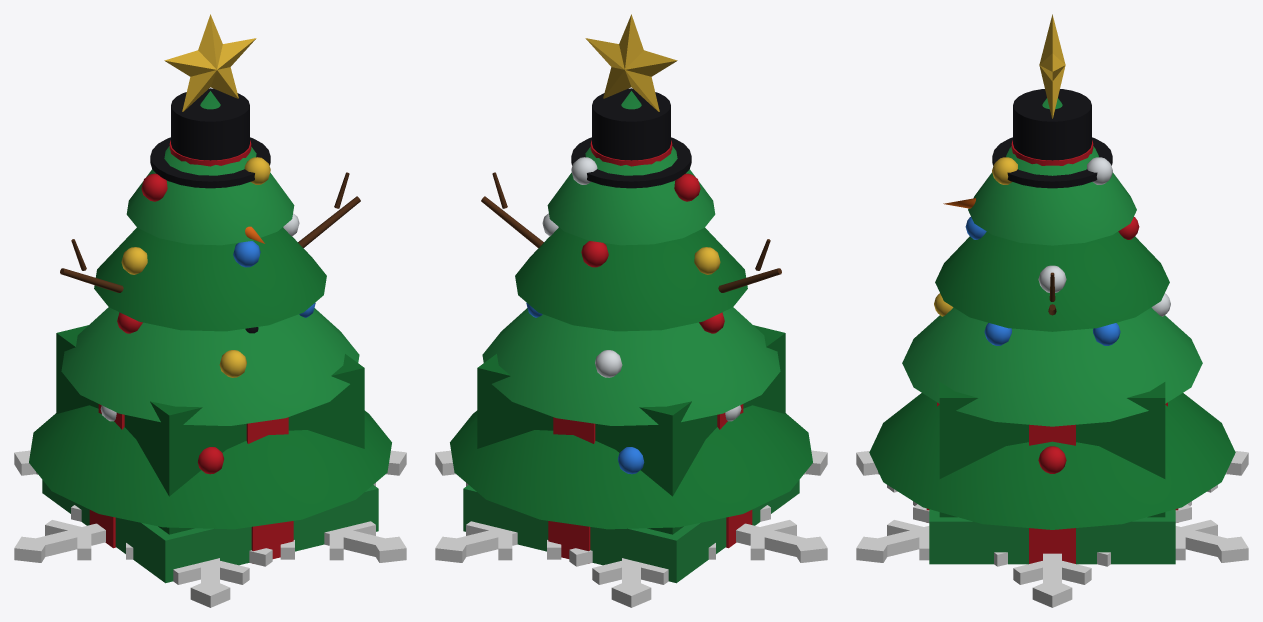
Rendered from WinterFxMeshes.fbx.
3 renders of one model, left to right at view 1: azimuth 30°, elevation 25°; view 2: azimuth 150°, elevation 25°; view 3: azimuth 270°, elevation 25°, orthographic.
Visible parts, largest first — view 1: FX_Tree, FX_Gift, FX_GiftLid, FX_Snowman, FX_Snowflake; view 2: FX_Tree, FX_Gift, FX_GiftLid, FX_Snowflake, FX_Snowman; view 3: FX_Tree, FX_GiftLid, FX_Gift, FX_Snowflake, FX_Snowman.
Part boxes in pixels (x1=…): FX_Tree: x1=29, y1=14, x2=391, y2=529; FX_Gift: x1=56, y1=325, x2=364, y2=534; FX_GiftLid: x1=42, y1=480, x2=378, y2=583; FX_Snowman: x1=60, y1=88, x2=360, y2=333; FX_Snowflake: x1=14, y1=450, x2=406, y2=607; FX_Tree: x1=450, y1=14, x2=812, y2=529; FX_Gift: x1=477, y1=325, x2=785, y2=534; FX_GiftLid: x1=463, y1=480, x2=799, y2=583; FX_Snowflake: x1=435, y1=450, x2=827, y2=607; FX_Snowman: x1=481, y1=88, x2=781, y2=292; FX_Tree: x1=869, y1=14, x2=1235, y2=529; FX_GiftLid: x1=926, y1=508, x2=1178, y2=564; FX_Gift: x1=937, y1=382, x2=1167, y2=517; FX_Snowflake: x1=856, y1=451, x2=1248, y2=607; FX_Snowman: x1=943, y1=89, x2=1112, y2=315.
Bounding box in the file's own units: 482 × 588 × 418.
